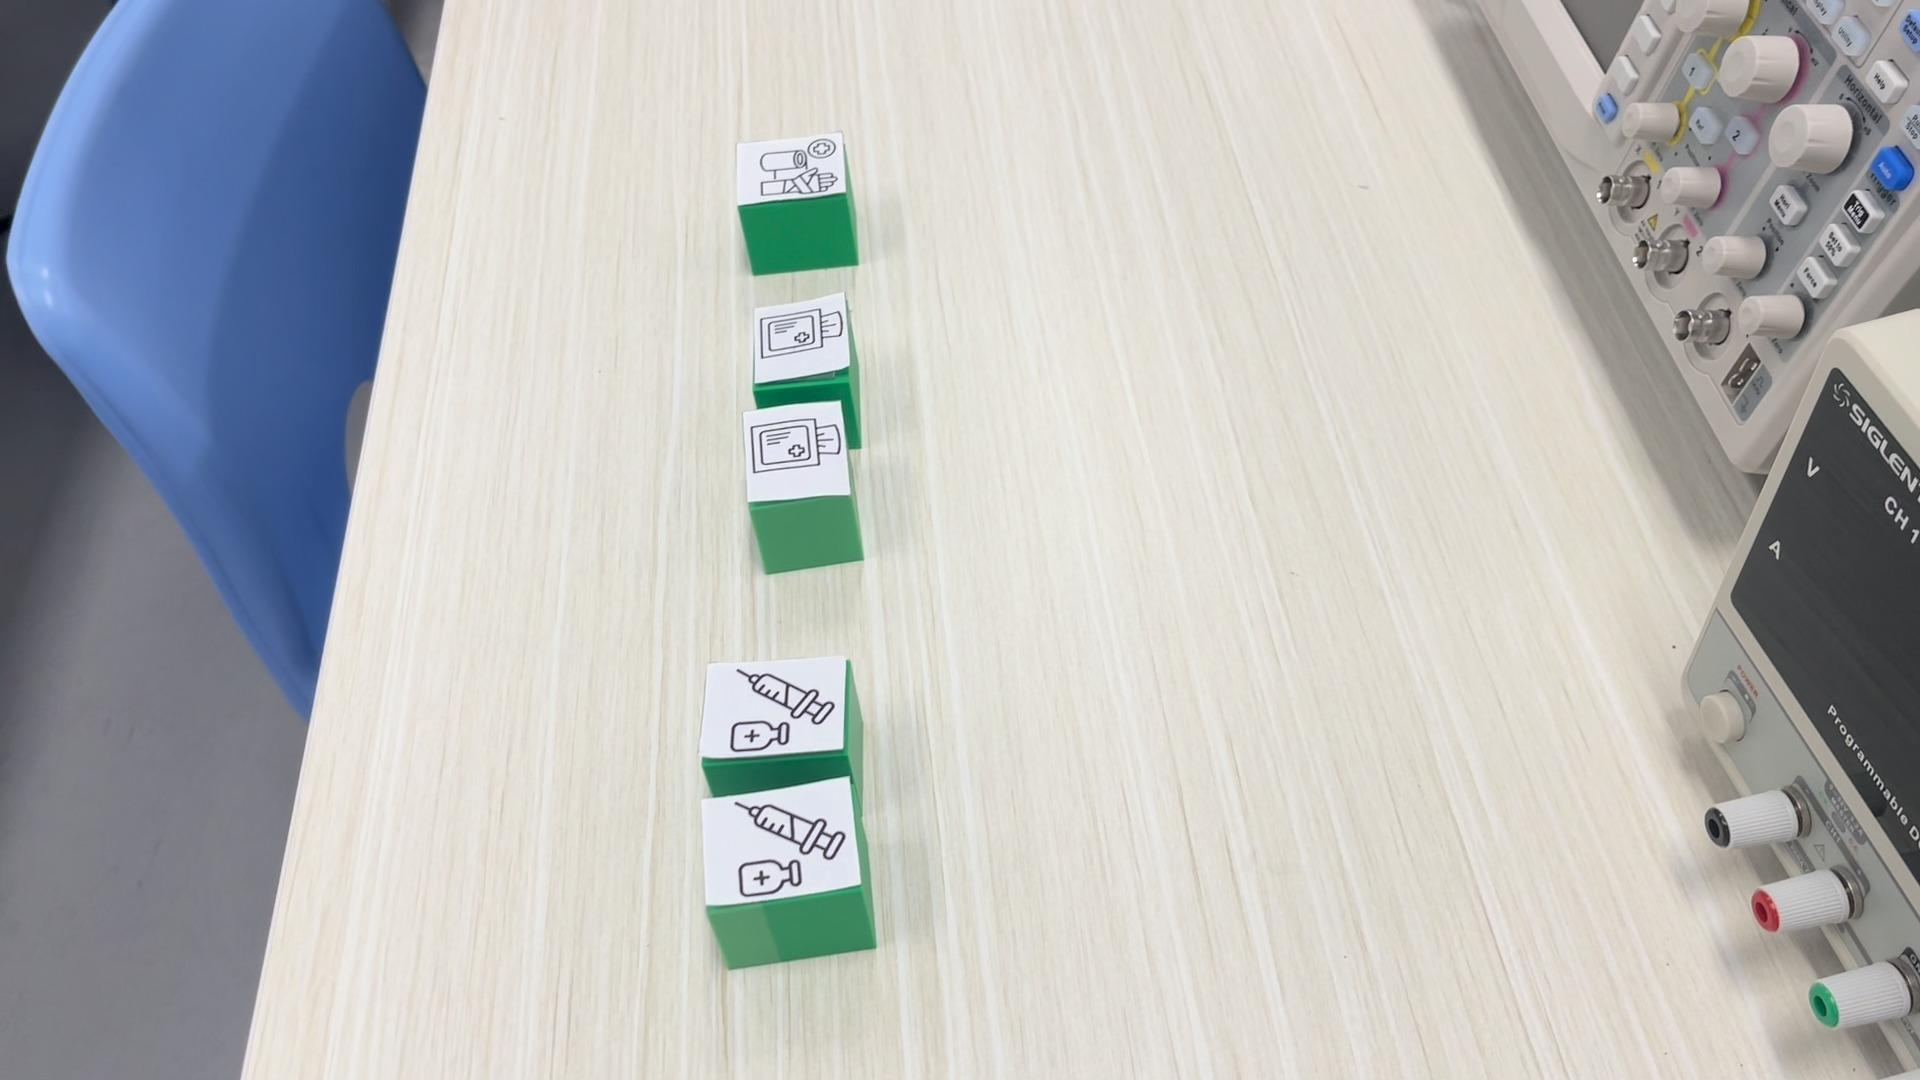Bandages: (737, 132, 860, 276)
Gauze: (744, 396, 864, 575), (752, 289, 860, 418)
antiseptic cream: (703, 774, 880, 971), (700, 655, 864, 795)
